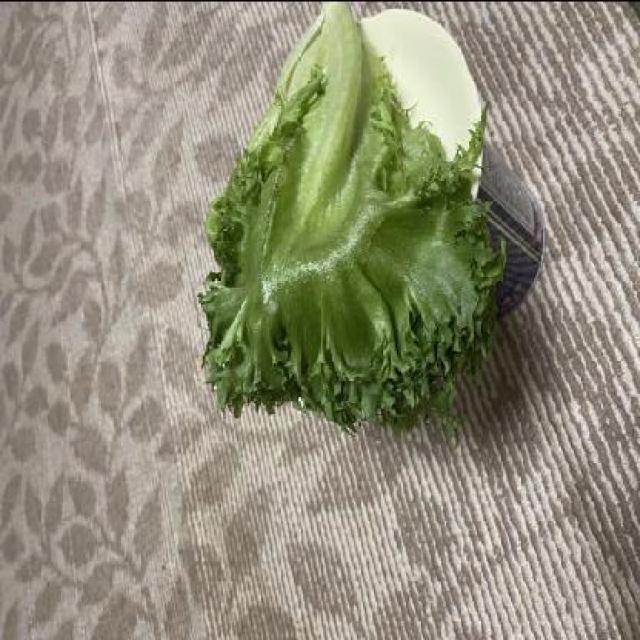Lettuce: (201, 0, 497, 427)
